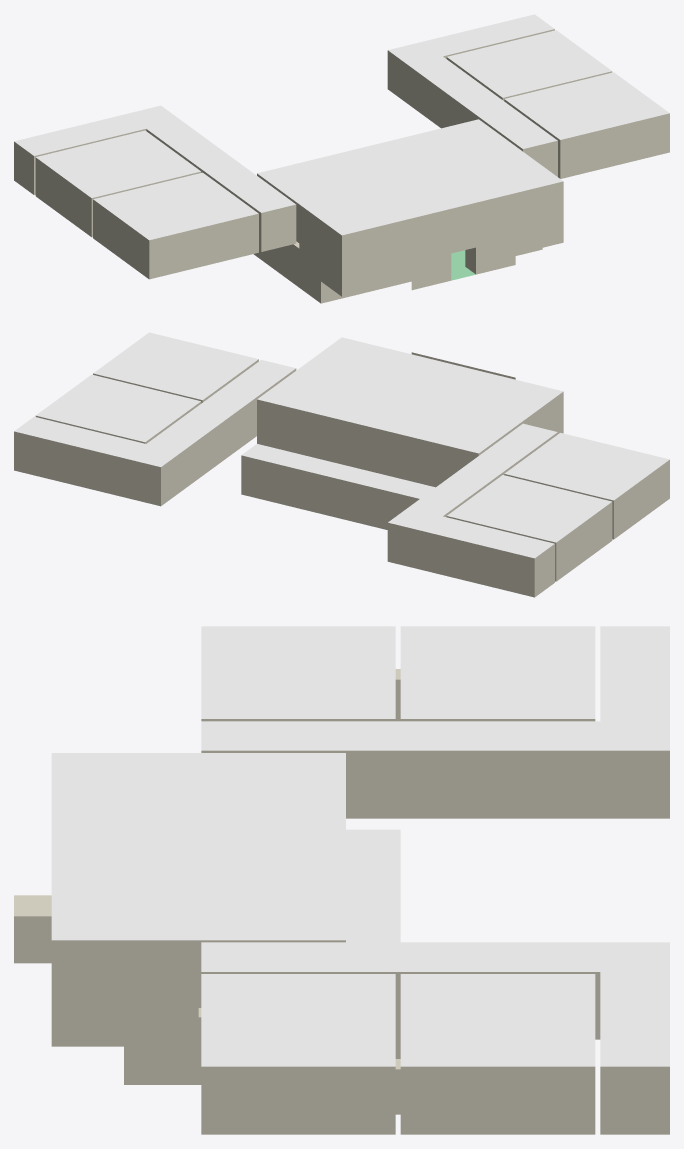
The model's file is Building.fbx.
3 views of the same model, one above another, from view 1: azimuth 30°, elevation 25°; view 2: azimuth 150°, elevation 25°; view 3: azimuth 270°, elevation 25° (orthographic). The views are drawn at different scales.
Parts seen in each view (by area): view 1: Building; view 2: Building; view 3: Building.
Part boxes in pixels (box(x1,y1,x2,y2)): Building: box(14, 14, 669, 303); Building: box(14, 332, 669, 597); Building: box(14, 626, 669, 1134).
Size of the model in its own units: 4180 by 680 by 2631.
